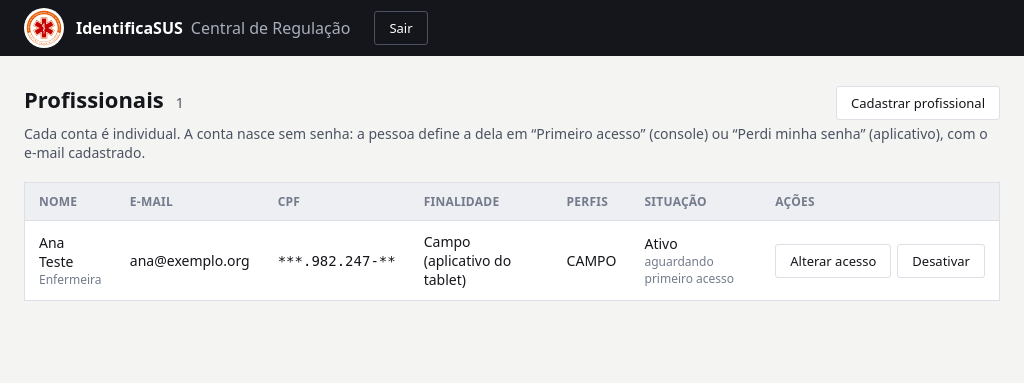
Test: profissionais › desativar avisa que a pessoa perdeu o acesso
Step 1. Click the button "Desativar" → (941, 260), box [897,244,985,278]
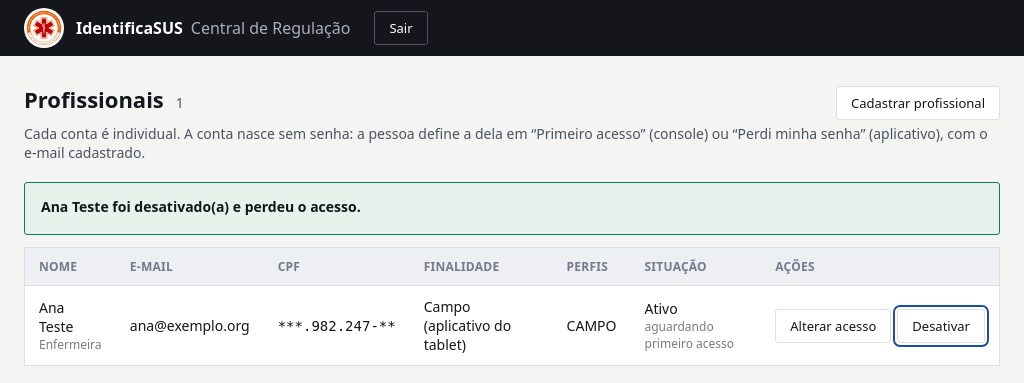
Result: the text "Ana Teste foi desativado(a) e perdeu o acesso." is shown at [41,197,361,216]
